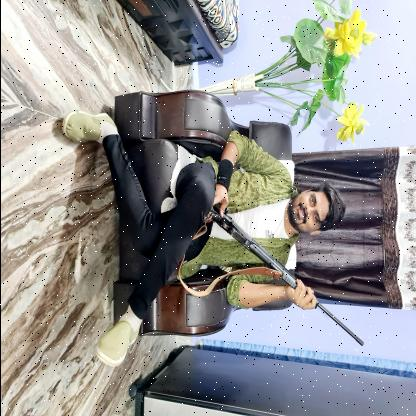rifle: (202, 193, 364, 349)
